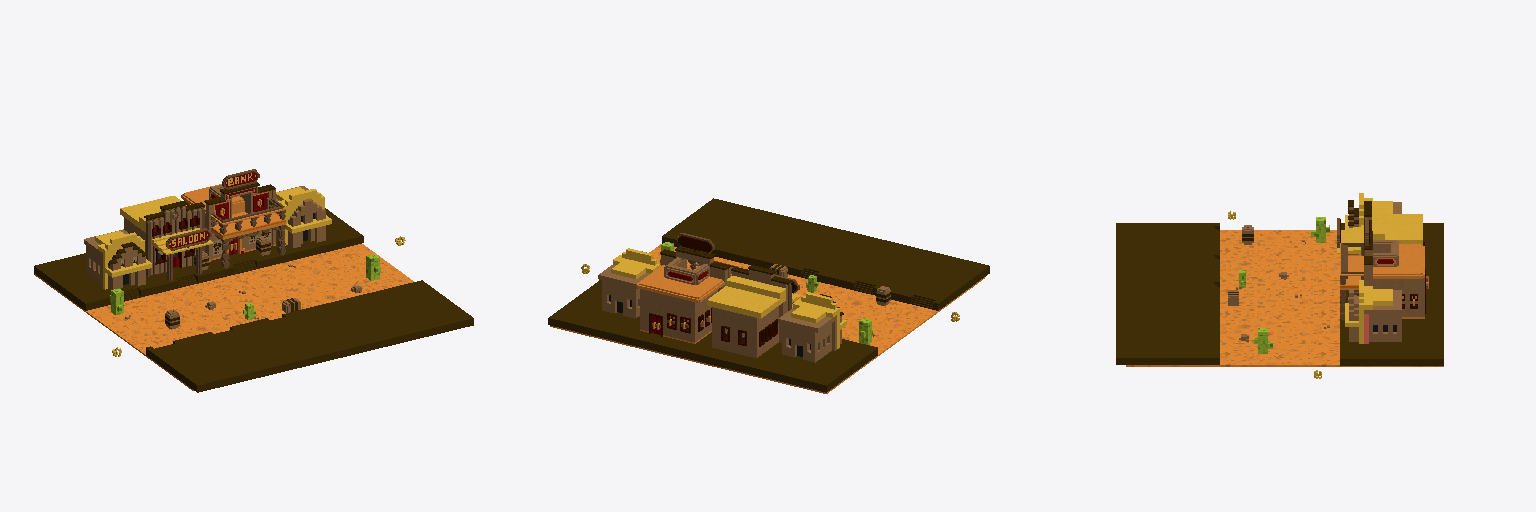
The picture shows the model from 3 angles: view 1: azimuth 30°, elevation 25°; view 2: azimuth 150°, elevation 25°; view 3: azimuth 270°, elevation 25°; orthographic projection.
Parts seen in each view (by area): view 1: Matrix_3, Matrix_2, Box_1, Box, _3, Matrix, _4, Box_9, Box_10, Matrix_1, _7, _8 (+1 smaller); view 2: Matrix_3, Box_1, Box, Matrix, Matrix_2, Box_9, Matrix_1, Box_10, _3, _16; view 3: Matrix_3, Matrix_2, _4, _3, Box_1, Matrix_1, Box_10, Box, Matrix, _7, _8, Box_9 (+1 smaller).
Boxes of the visible parts, box(x1,y1,x2,y2) form: Matrix_3: box(146, 304, 374, 392); Matrix_2: box(323, 280, 473, 348); Box_1: box(181, 182, 285, 268); Box: box(120, 196, 212, 280); _3: box(118, 283, 285, 346); Matrix: box(34, 251, 262, 310); _4: box(245, 252, 413, 310); Box_9: box(84, 229, 151, 290); Box_10: box(276, 186, 331, 248); Matrix_1: box(250, 208, 363, 267); _7: box(234, 244, 372, 282); _8: box(105, 275, 243, 311); Matrix_3: box(761, 223, 989, 310); Box_1: box(636, 246, 739, 343); Box: box(707, 265, 800, 357); Matrix: box(649, 332, 877, 392); Matrix_2: box(662, 198, 812, 266); Box_9: box(778, 292, 846, 362); Matrix_1: box(548, 280, 658, 348); Box_10: box(598, 248, 659, 318); _3: box(787, 276, 916, 339); _16: box(872, 307, 937, 347); Matrix_3: box(1116, 223, 1219, 308); Matrix_2: box(1116, 309, 1219, 364); _4: box(1222, 302, 1317, 366); _3: box(1222, 240, 1317, 301); Box_1: box(1340, 231, 1428, 319); Matrix_1: box(1340, 309, 1443, 365); Box_10: box(1345, 280, 1401, 343); Box: box(1337, 201, 1424, 253); Matrix: box(1340, 223, 1443, 308); _7: box(1318, 302, 1412, 366); _8: box(1318, 240, 1339, 301); Box_9: box(1345, 193, 1401, 254).
Size of the model in its own units: 241 by 61 by 205.
Materials: 1 (1 with a texture image).